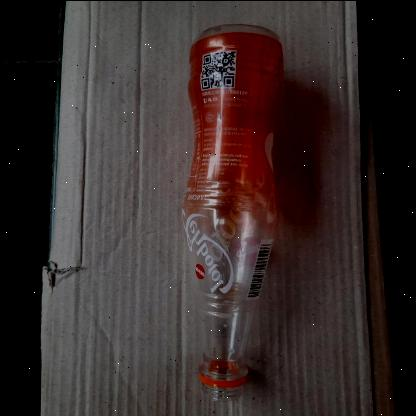Plastic Bottle: (180, 23, 284, 400)
